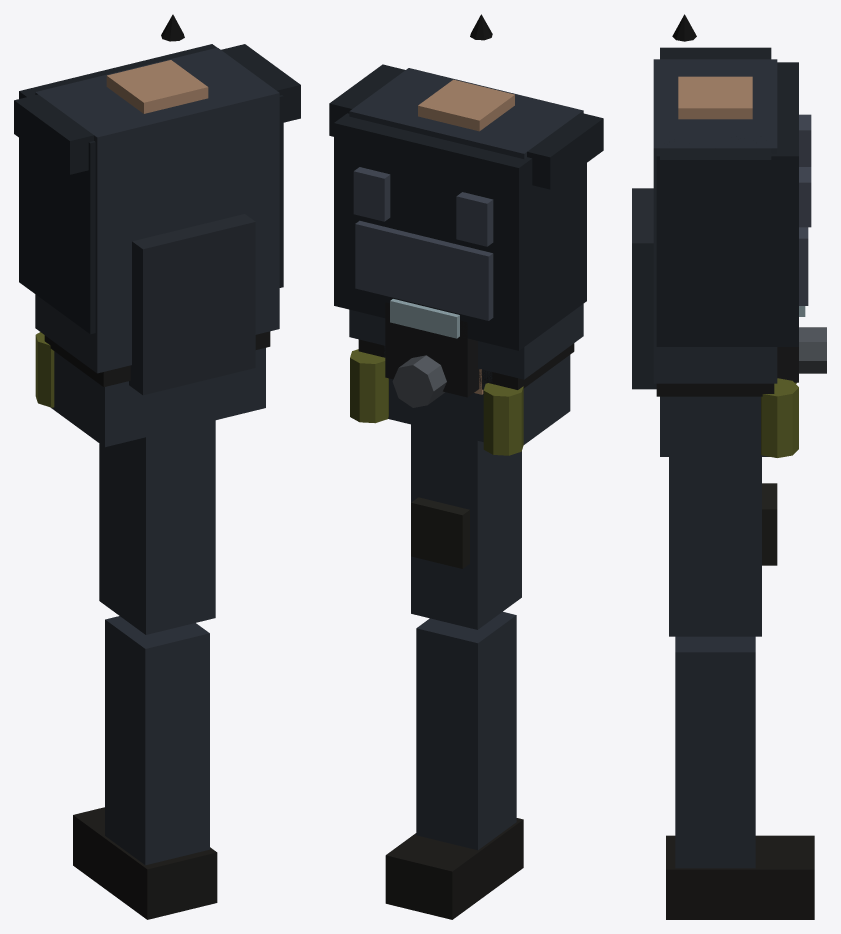
File: operator_smoke.glb
3 views of the same model, side by side, from view 1: azimuth 30°, elevation 25°; view 2: azimuth 150°, elevation 25°; view 3: azimuth 270°, elevation 25° (orthographic). The views are drawn at different scales.
Parts seen in each view (by area): view 1: torso, legL, head, hips; view 2: torso, legL, head, hips; view 3: torso, legL, hips, head.
Part boxes in pixels (x1=…): torso: x1=14, y1=14, x2=300, y2=407; legL: x1=73, y1=420, x2=217, y2=919; head: x1=129, y1=214, x2=255, y2=395; hips: x1=44, y1=331, x2=270, y2=447; torso: x1=329, y1=14, x2=603, y2=455; legL: x1=385, y1=424, x2=523, y2=919; head: x1=384, y1=299, x2=492, y2=407; hips: x1=358, y1=339, x2=574, y2=444; torso: x1=653, y1=14, x2=811, y2=457; legL: x1=666, y1=457, x2=814, y2=919; hips: x1=656, y1=383, x2=774, y2=456; head: x1=632, y1=188, x2=826, y2=389.
Size of the model in its own units: 0.43 by 1.58 by 0.315.
